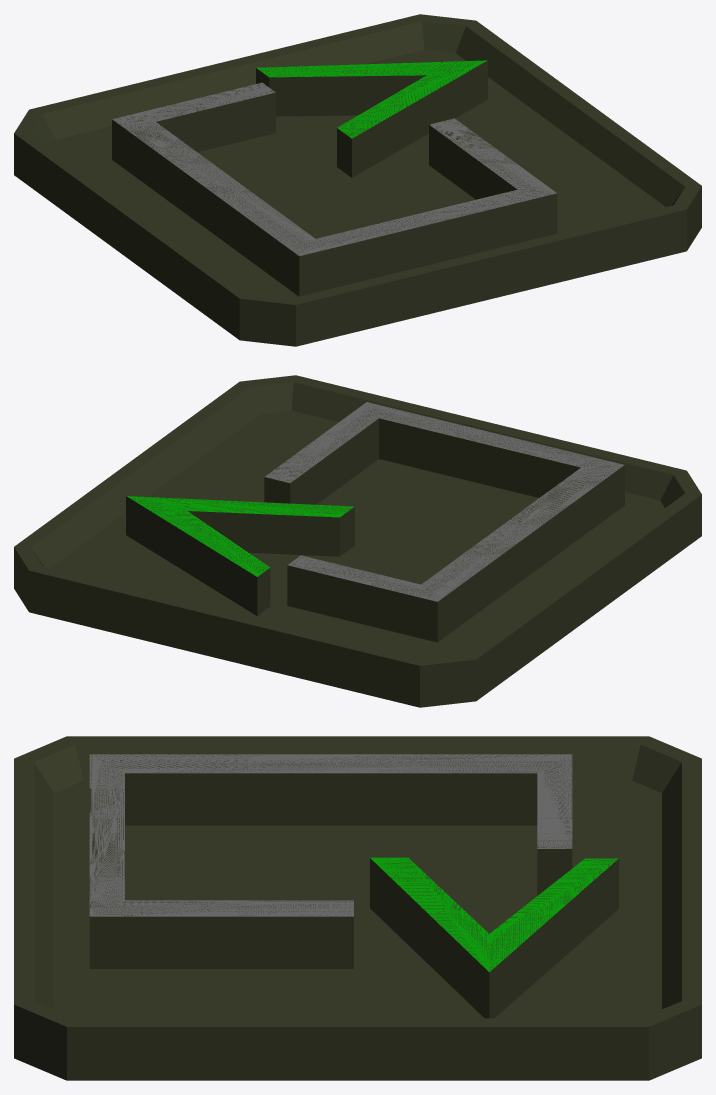
Rendered from BUTTON_Bookmark_Next.dae.
3 renders of one model, top to bottom at view 1: azimuth 30°, elevation 25°; view 2: azimuth 150°, elevation 25°; view 3: azimuth 270°, elevation 25°, orthographic. The views are drawn at different scales.
Visible parts, largest first — view 1: SketchUp (×6); view 2: SketchUp (×6); view 3: SketchUp (×6).
Part boxes in pixels (x1,y1,x2,y2): SketchUp (×6): (14, 14, 701, 346); SketchUp (×6): (14, 375, 701, 707); SketchUp (×6): (14, 736, 701, 1080).
Bounding box in the file's own units: 39.37 × 39.37 × 4.96.
